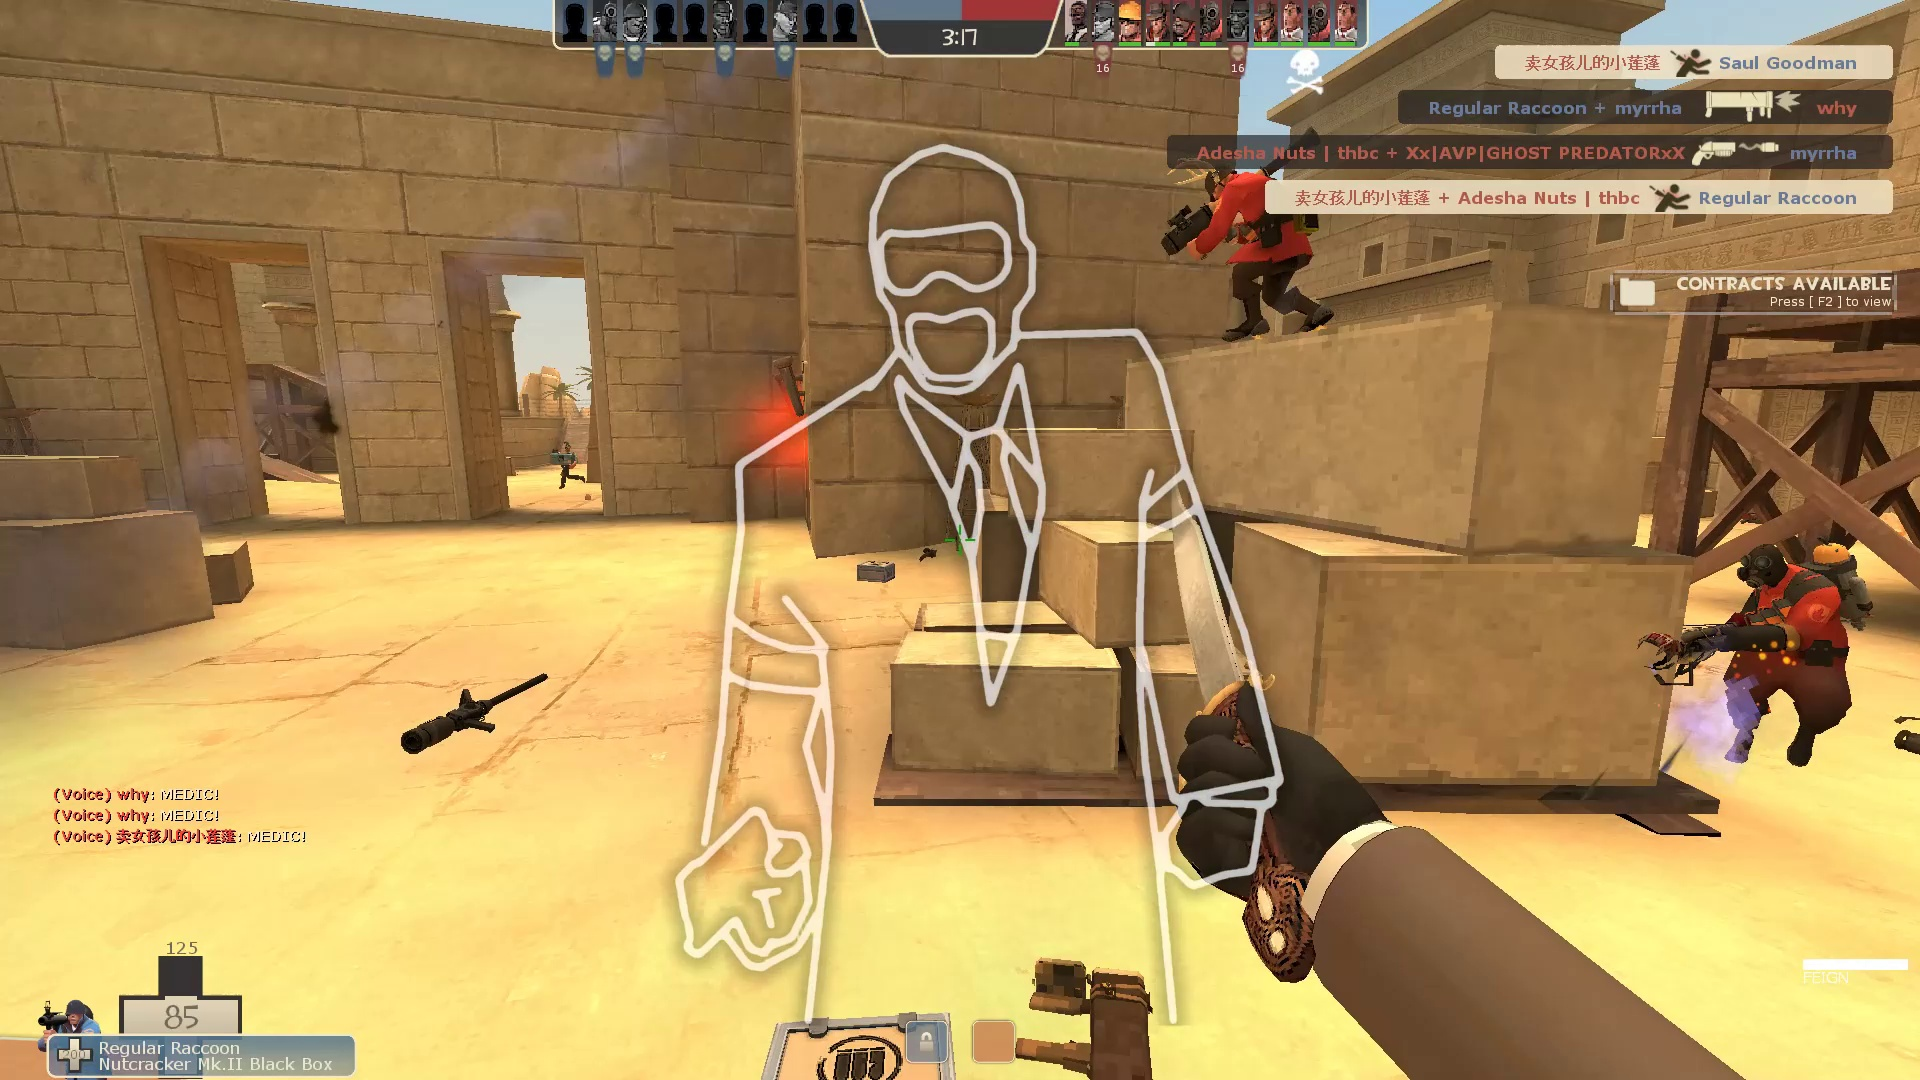blu_engineer: (543, 434, 591, 493)
red_pyro: (1631, 535, 1883, 785)
red_soldier: (1155, 120, 1353, 349)
